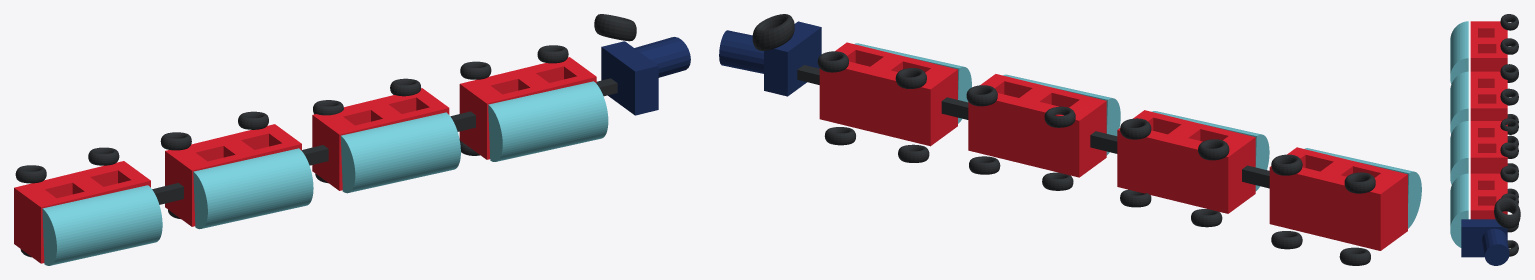
Rendered from tinker.obj.
3 renders of one model, left to right at view 1: azimuth 30°, elevation 25°; view 2: azimuth 150°, elevation 25°; view 3: azimuth 270°, elevation 25°, orthographic. The views are drawn at different scales.
Parts seen in each view (by area): view 1: group_0_7720667, group_0_15277357, group_0_2829873, group_0_1650274; view 2: group_0_15277357, group_0_2829873, group_0_1650274, group_0_7720667; view 3: group_0_15277357, group_0_7720667, group_0_2829873, group_0_1650274.
Boxes of the visible parts, x1=… form: group_0_7720667: x1=42, y1=81, x2=608, y2=265; group_0_15277357: x1=14, y1=57, x2=596, y2=263; group_0_2829873: x1=15, y1=14, x2=636, y2=257; group_0_1650274: x1=601, y1=37, x2=690, y2=115; group_0_15277357: x1=819, y1=42, x2=1407, y2=250; group_0_2829873: x1=752, y1=14, x2=1375, y2=265; group_0_1650274: x1=719, y1=21, x2=821, y2=96; group_0_7720667: x1=854, y1=43, x2=1421, y2=228; group_0_15277357: x1=1470, y1=21, x2=1507, y2=219; group_0_7720667: x1=1450, y1=21, x2=1468, y2=247; group_0_2829873: x1=1494, y1=14, x2=1520, y2=256; group_0_1650274: x1=1461, y1=219, x2=1509, y2=265.
Size of the model in its own units: 282 by 44 by 38.14.
